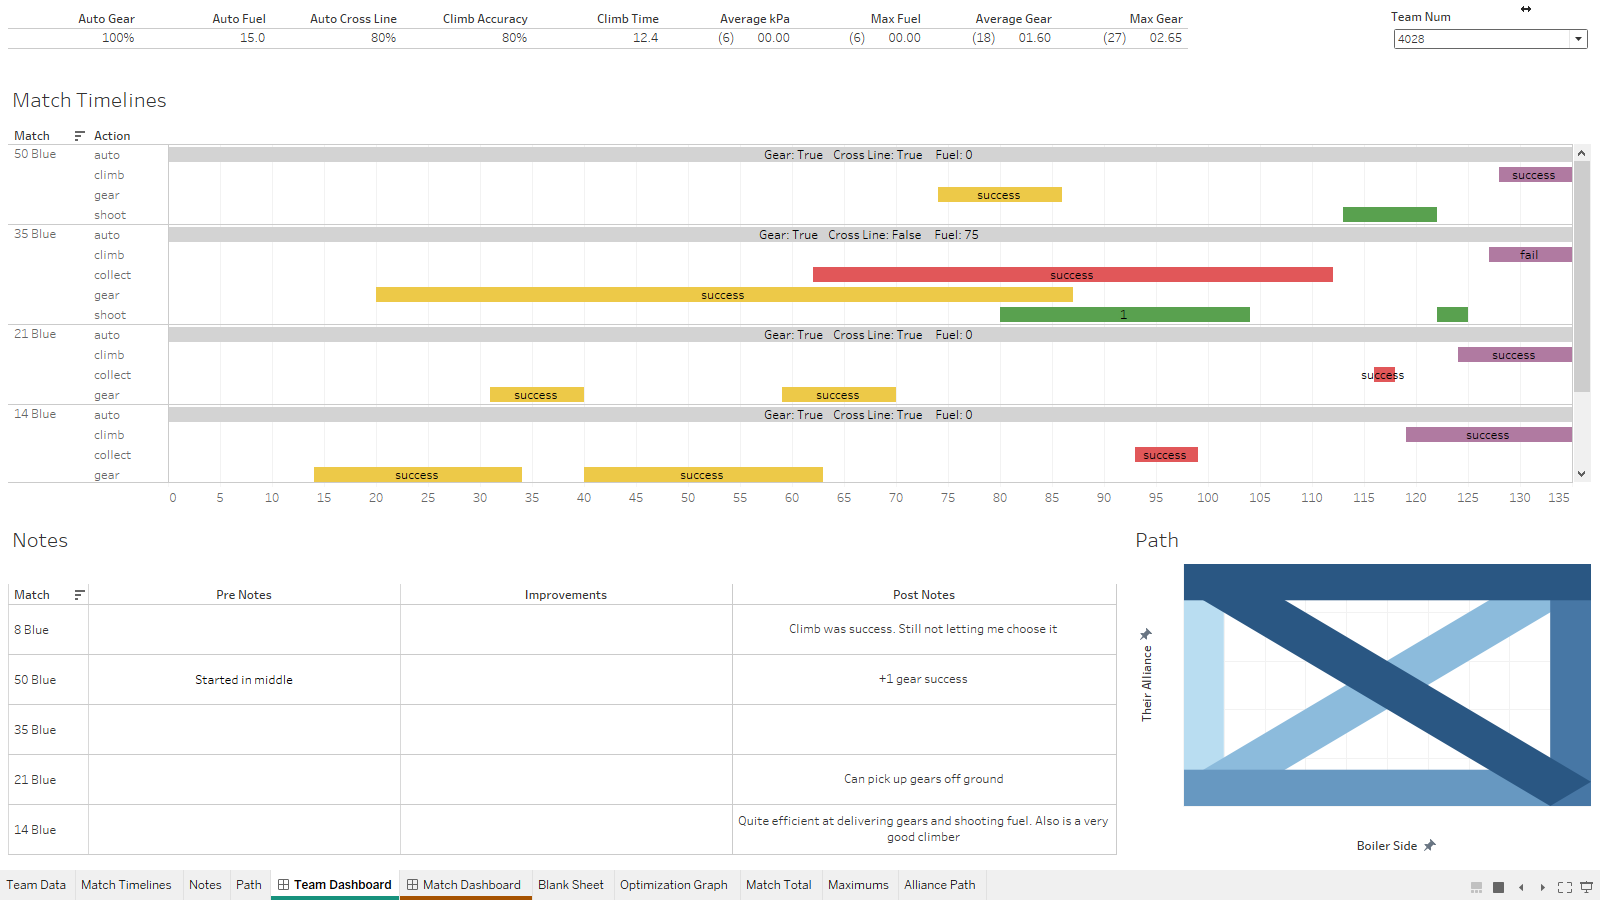

What the dashboard file says about the page in this screenshot:
{"tool":"tableau","page":{"name":"Team Dashboard","canvas":[1000,1000],"units":"permille","ordinal":1},"visuals":[{"type":"worksheet","title":"Team Data","mark":"Automatic","rows":["F1"],"box":[0,0,867.6,88.4]},{"type":"filter","title":"Match Timelines","param":"[federated.1prcr3u14ps03512de78t0o3nd5h].[none:F1:ok]","box":[867.6,0,129.9,88.4]},{"type":"worksheet","title":"Match Timelines","mark":"Automatic","rows":["Calculation_567453611070140425","F5"],"cols":["F3"],"box":[0,88.4,997.5,506.9]},{"type":"worksheet","title":"Notes","mark":"Automatic","rows":["Calculation_567453611070140425","F8","F9"],"cols":["Calculation_567453611073105931"],"box":[0,595.3,705.1,404.7]},{"type":"worksheet","title":"Path","mark":"Polygon","rows":["F3"],"cols":["F2"],"box":[705.1,595.3,292.4,404.7]}]}

Visuals, with their boxes on the dashboard's canvas, which has no fixed pixel size, in thousandths of its width and height (x1, y1, x2, y2). These are canvas units, not pixel positions in the 1600x900 screenshot, which may show the page scaled, cropped or inside an application window:
"Team Data" worksheet: left=0, top=0, right=868, bottom=88
"Match Timelines" filter: left=868, top=0, right=998, bottom=88
"Match Timelines" worksheet: left=0, top=88, right=998, bottom=595
"Notes" worksheet: left=0, top=595, right=705, bottom=1000
"Path" worksheet (Polygon marks): left=705, top=595, right=998, bottom=1000
